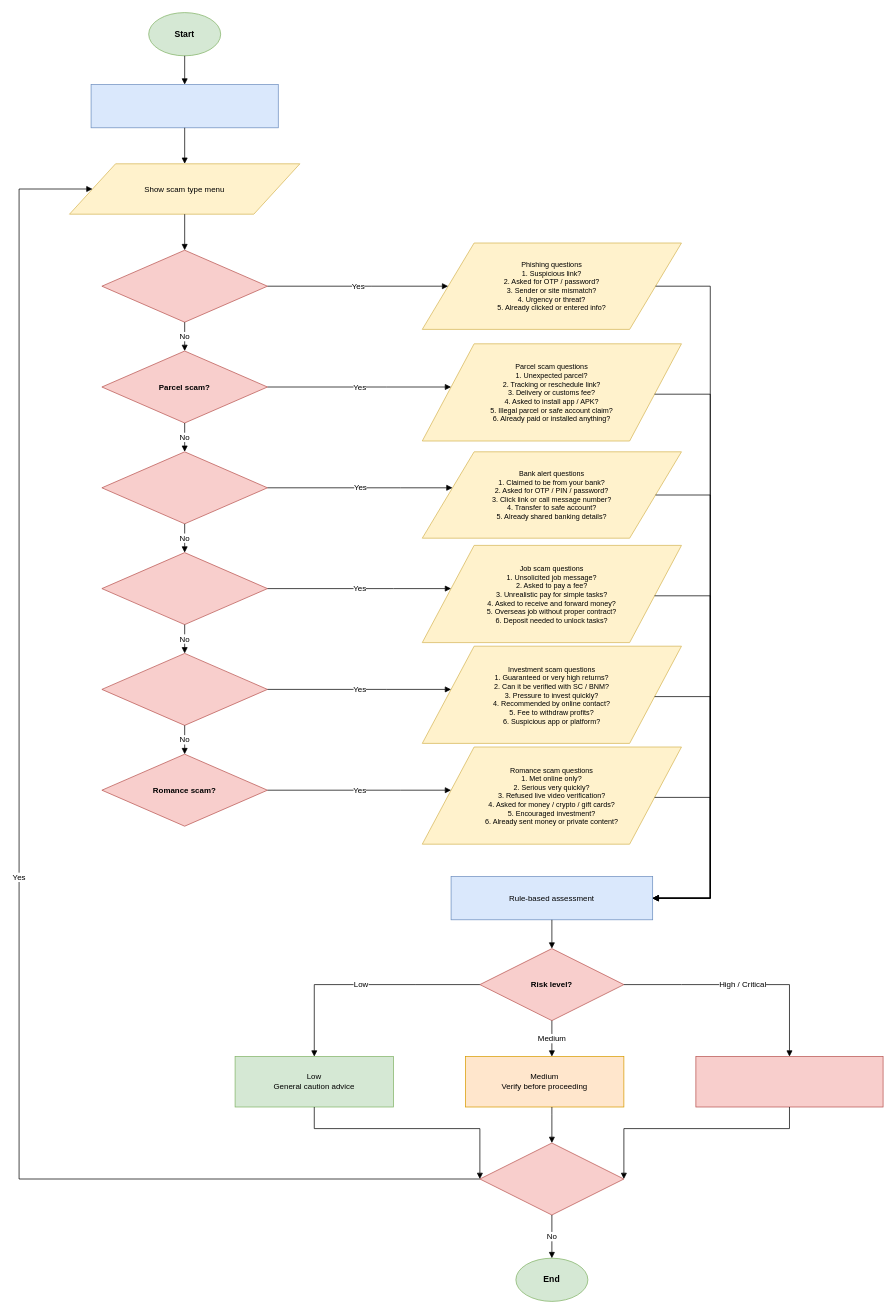
Image size: 896x1314. Some labels were removed from this diagram. The centre of each missing label's shape, as x and y in pixels:
Check another scam?: [551,1178]
Fake bank alert?: [184,487]
Greeting / Welcome: [184,106]
High / Critical Urgent warning and next steps: [789,1081]
Investment scam?: [184,689]
Job scam?: [184,588]
Phishing?: [184,285]
